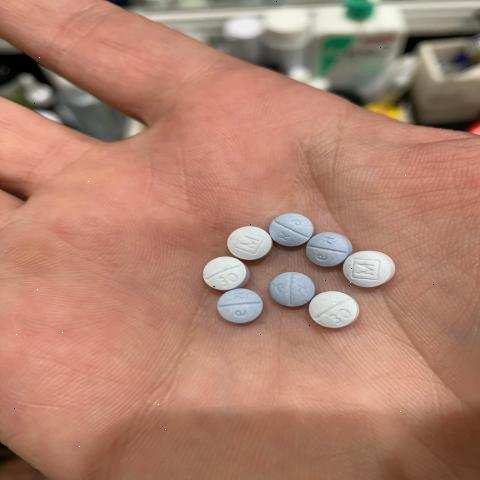Pill: (338, 240, 405, 289), (182, 251, 252, 292), (210, 218, 274, 262), (306, 290, 362, 333)
